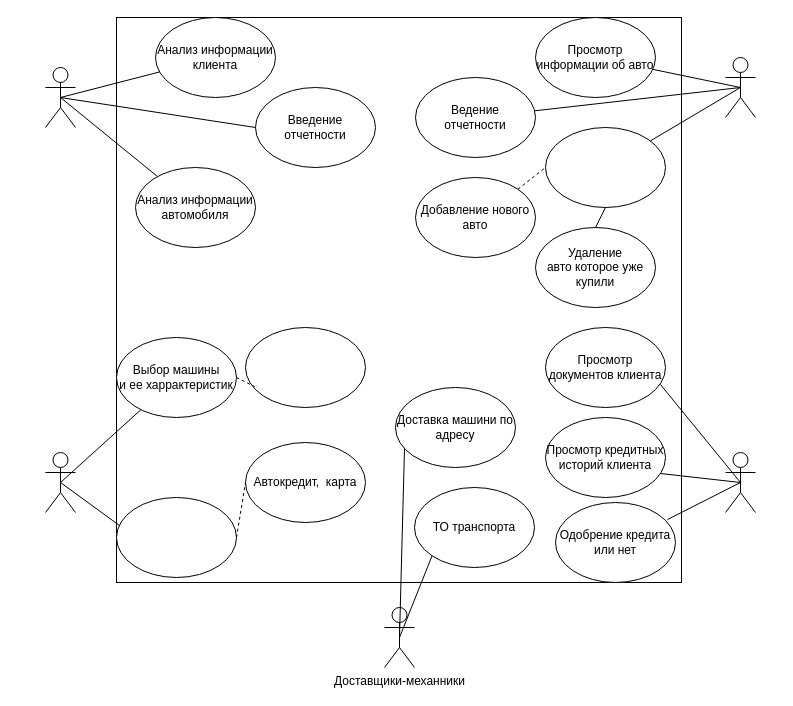
This 793x706 diagram has some shape labels left out. The centre of each missing label's shape, as x and y in pixels:
"Администратор" belongs at [60,97].
"Акредитатор" belongs at [740,482].
"Клиент" belongs at [60,482].
"Марка, модель, цвет, кузов,дата доставки" belongs at [305,367].
"Менеджер" belongs at [740,87].
"Обновлении информации" belongs at [605,167].
"Оплата" belongs at [176,537].
